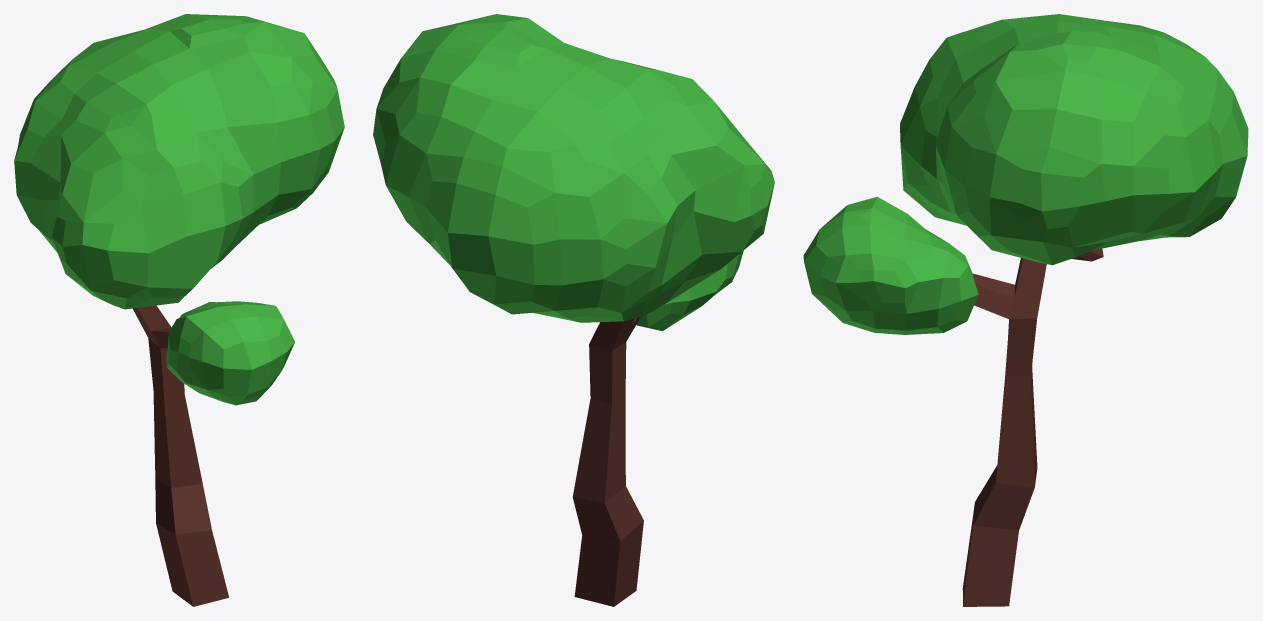
File: Tree_lowpoly_2.fbx
The picture shows the model from 3 angles, left to right: view 1: azimuth 30°, elevation 25°; view 2: azimuth 150°, elevation 25°; view 3: azimuth 270°, elevation 25°; orthographic projection. The views are drawn at different scales.
Visible parts, largest first — view 1: Plane.002; view 2: Plane.002; view 3: Plane.002.
Part boxes in pixels (<box>): Plane.002: <box>14,14,344,606</box>; Plane.002: <box>373,14,774,606</box>; Plane.002: <box>803,14,1248,606</box>.
Bounding box in the file's own units: 424 × 482 × 701.
